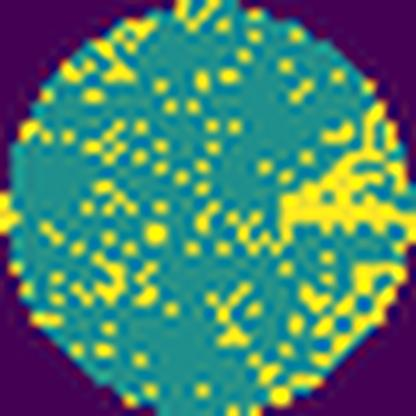Loc: (226, 101, 416, 258), (308, 264, 405, 365)
